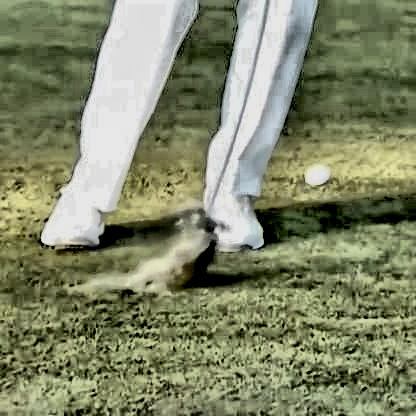golfball: (302, 159, 326, 183)
